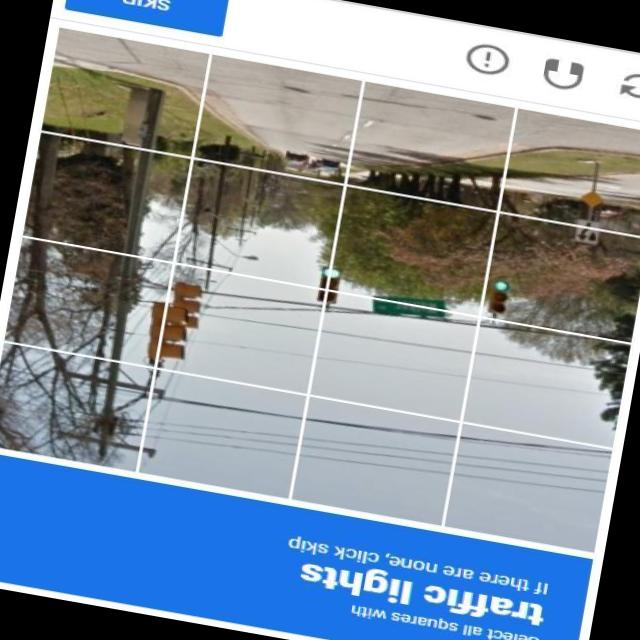green-lights: (316, 260, 347, 283), (494, 272, 509, 292)
